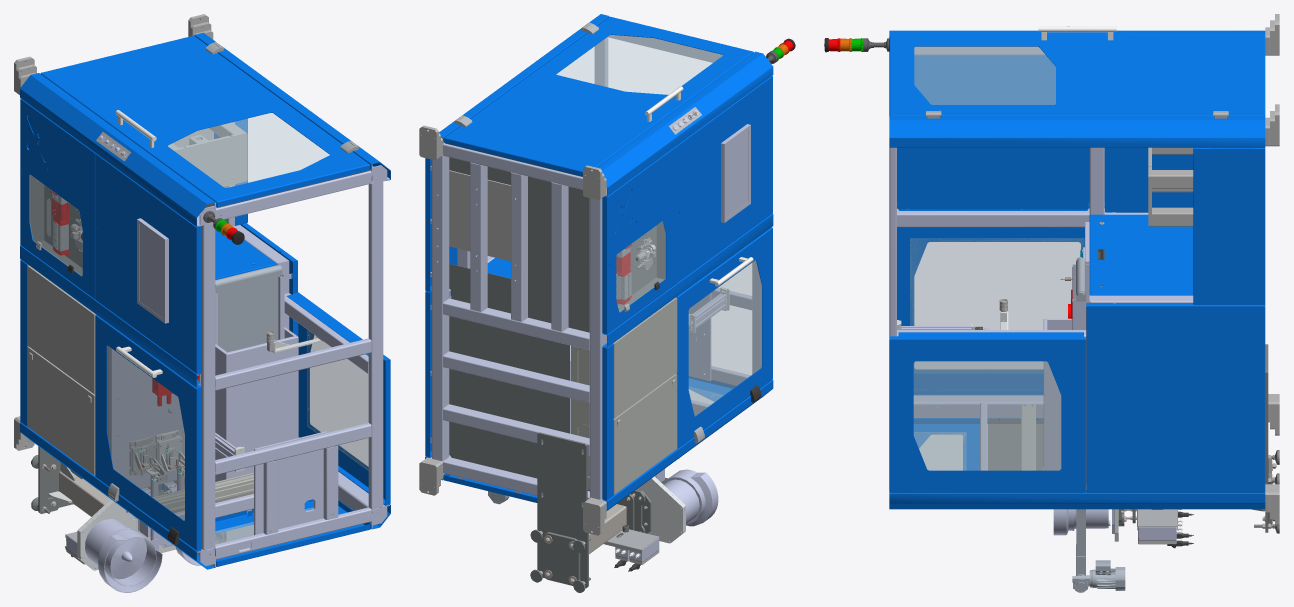
Rendered from imm-cell-scara.glb.
3 views of the same model, side by side, from view 1: azimuth 30°, elevation 25°; view 2: azimuth 150°, elevation 25°; view 3: azimuth 270°, elevation 25° (orthographic). The views are drawn at different scales.
Parts seen in each view (by area): view 1: 02_0223_12_Celica_s_plocevino_mesh, body_mesh, 11-23-01-03-020_mesh, conveyors_tb45d-1700-r-420-p-1-n-2_9_mesh, imm-pedestal-top_mesh, 09-25-03-02-000_mesh, 09-25-03-01-000_mesh; view 2: 02_0223_12_Celica_s_plocevino_mesh, body_mesh, 11-23-01-03-020_mesh, imm-pedestal-base_mesh; view 3: 02_0223_12_Celica_s_plocevino_mesh, body_mesh, 11-23-01-03-020_mesh, conveyors_tb45d-1700-r-420-p-1-n-2_9_mesh, imm-pedestal-column_mesh.
Boxes of the visible parts, x1,y1,x2,y2 form: 02_0223_12_Celica_s_plocevino_mesh: (14, 14, 390, 569); body_mesh: (27, 190, 327, 535); 11-23-01-03-020_mesh: (48, 461, 227, 592); conveyors_tb45d-1700-r-420-p-1-n-2_9_mesh: (215, 265, 282, 541); imm-pedestal-top_mesh: (172, 132, 247, 186); 09-25-03-02-000_mesh: (129, 436, 167, 482); 09-25-03-01-000_mesh: (155, 430, 184, 476); 02_0223_12_Celica_s_plocevino_mesh: (419, 14, 773, 535); body_mesh: (530, 38, 795, 592); 11-23-01-03-020_mesh: (543, 458, 718, 585); imm-pedestal-base_mesh: (449, 170, 510, 261); 02_0223_12_Celica_s_plocevino_mesh: (889, 14, 1279, 526); body_mesh: (824, 38, 1279, 533); 11-23-01-03-020_mesh: (1053, 458, 1271, 548); conveyors_tb45d-1700-r-420-p-1-n-2_9_mesh: (1072, 257, 1125, 592); imm-pedestal-column_mesh: (1152, 147, 1193, 226).
Bounding box in the file's own units: 1373 × 2878 × 2409.
